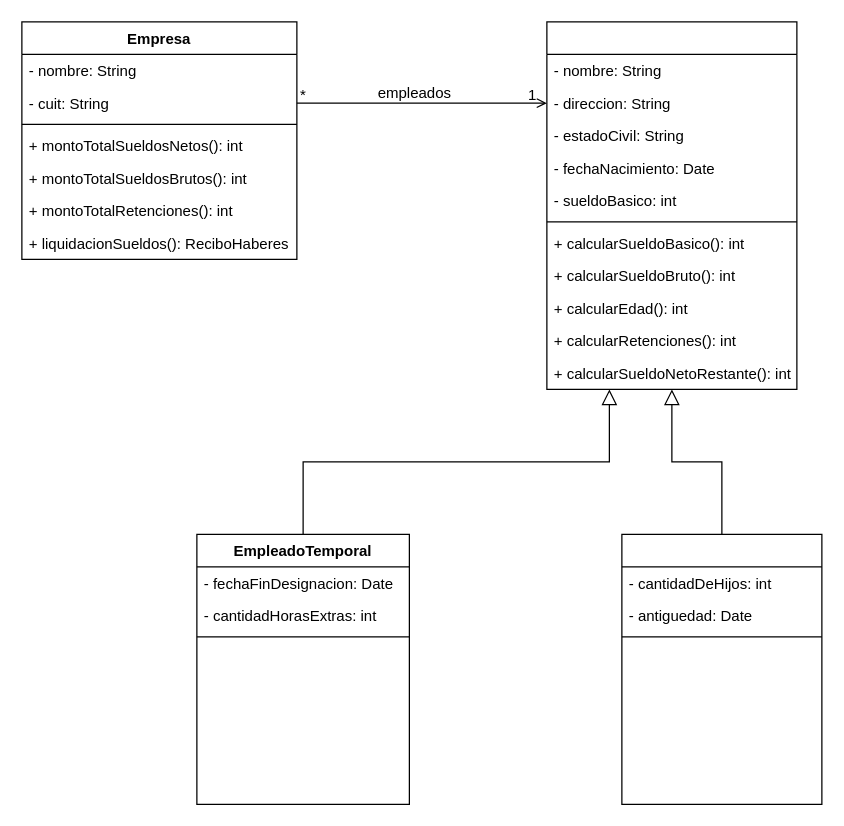
The diagram is 844 pixels wide and 826 high, and some of its shapes have lost their labels. The shapes that lost their labels are listed below. From the top down, each one's box as (x1, y1, x2, y2) in pixels, then its label:
(546, 21, 797, 389): Empleado
(621, 533, 822, 804): EmpleadoPermanente
